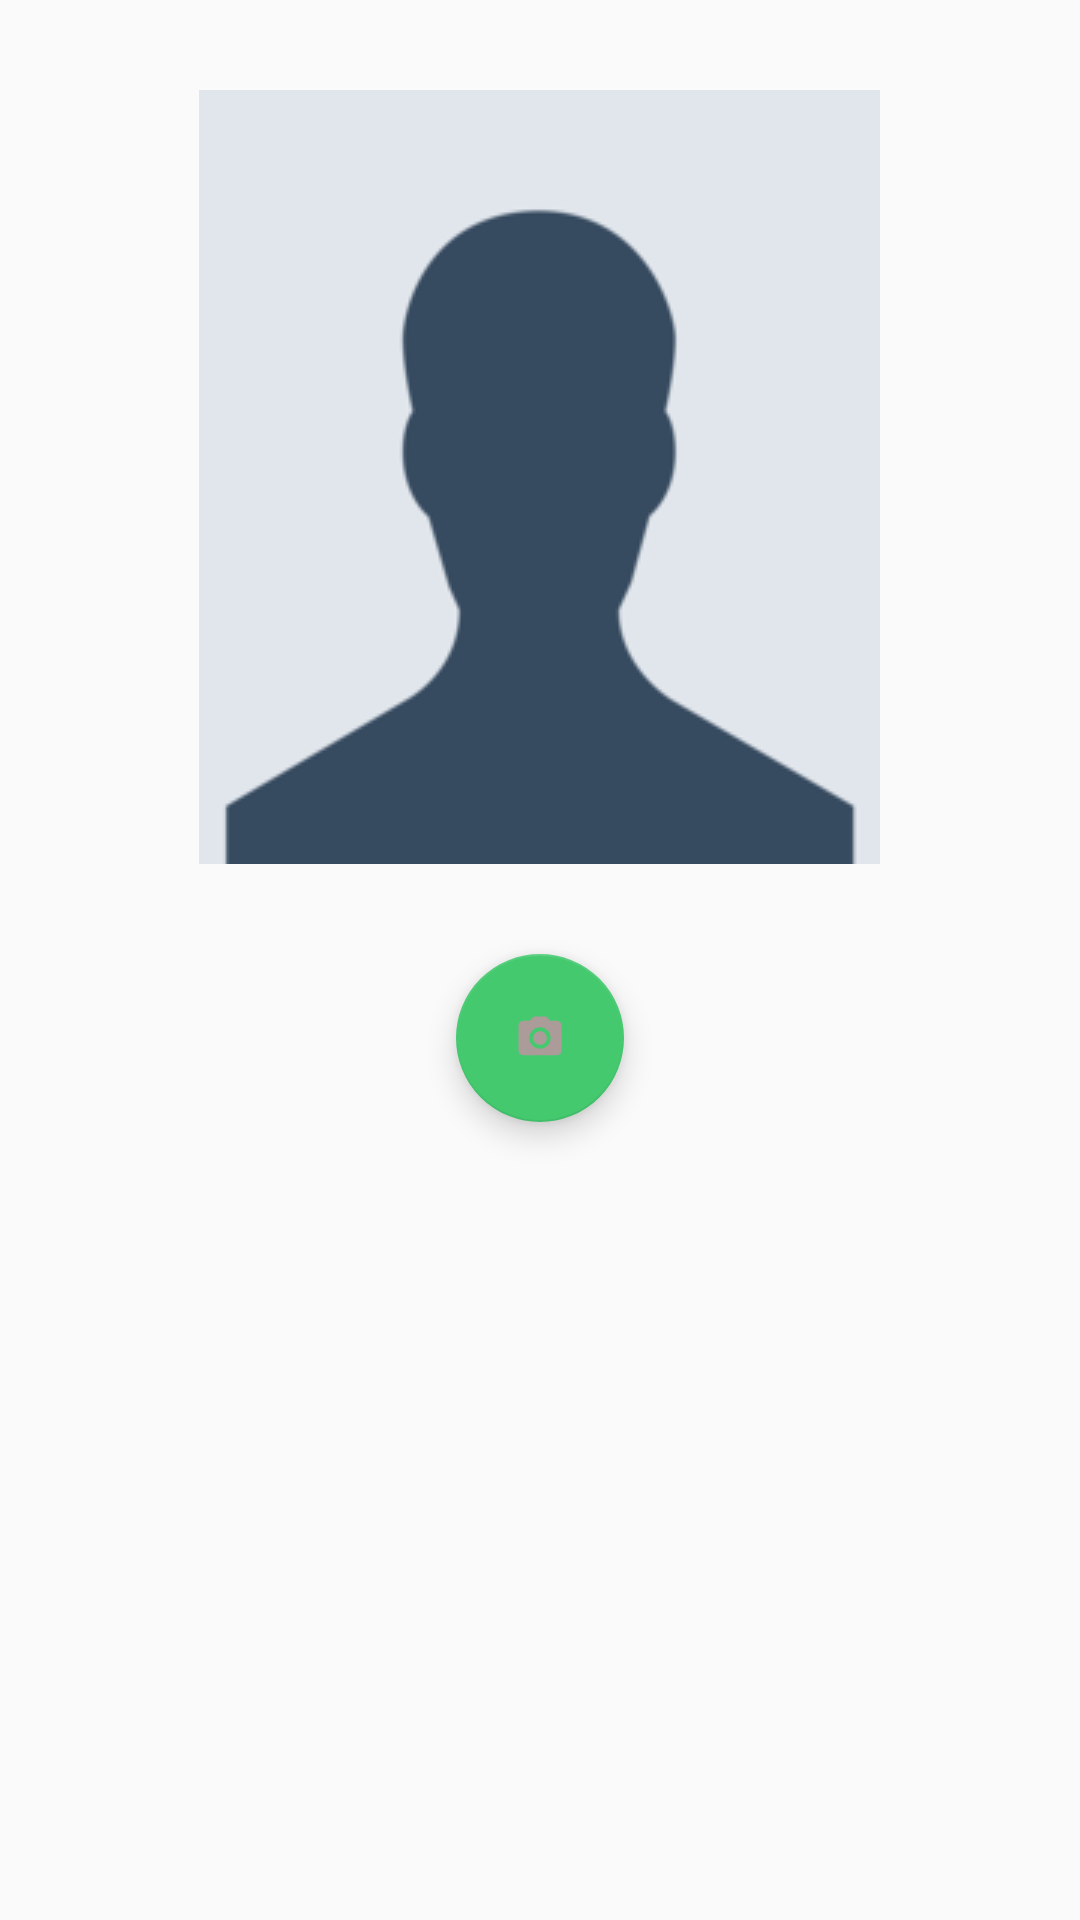

Where to tap for icons on this 1080w x 1920h app screen, as (x=x, y=y):
mcamera: (x=540, y=1038)
